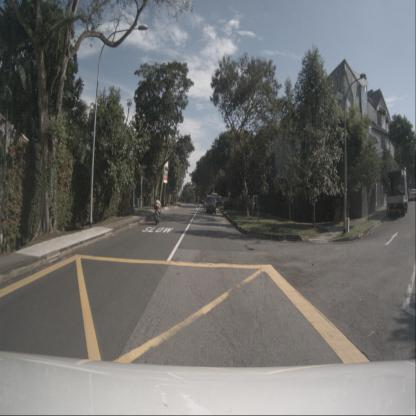vehicle-car: (206, 195, 216, 215), (409, 188, 416, 202)
vehicle-motorcycle: (153, 195, 162, 225), (203, 196, 207, 210)
vehicle-truck: (387, 169, 408, 218)
